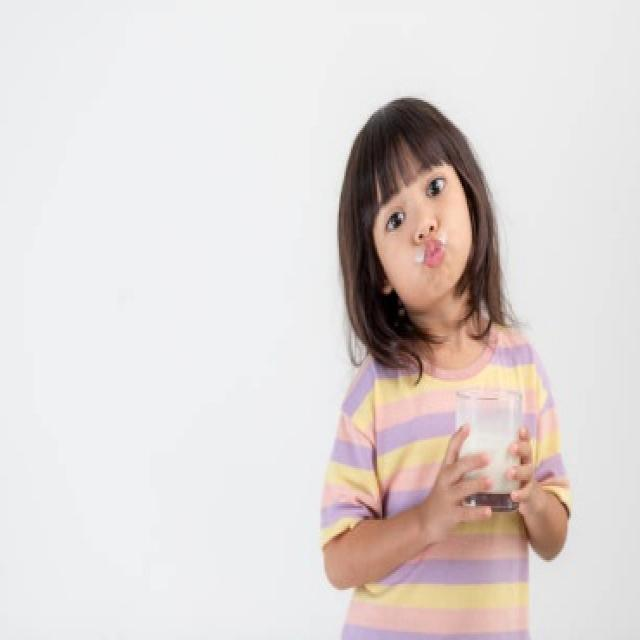child: (324, 94, 566, 640)
